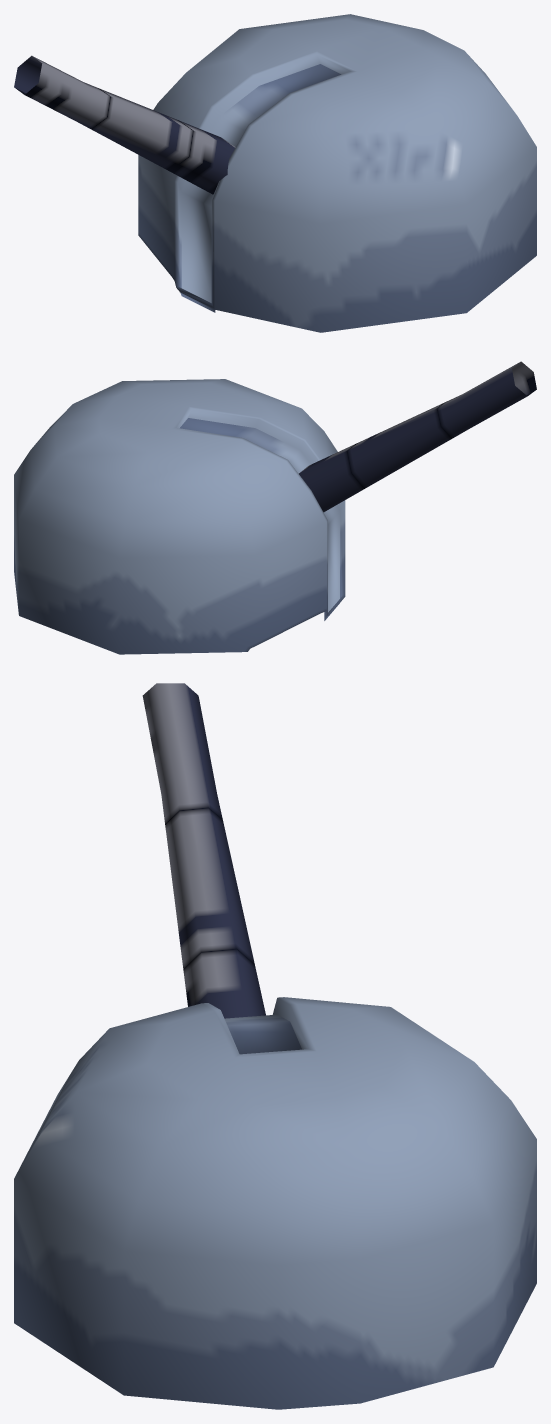
The model's file is MiniCanhao.fbx.
The picture shows the model from 3 angles, top to bottom: view 1: azimuth 30°, elevation 25°; view 2: azimuth 150°, elevation 25°; view 3: azimuth 270°, elevation 25°; orthographic projection. The views are drawn at different scales.
Visible parts, largest first — view 1: MiniCanhao; view 2: MiniCanhao; view 3: MiniCanhao.
Boxes of the visible parts, <box> form: MiniCanhao: <box>14,14,536,332</box>; MiniCanhao: <box>14,361,536,654</box>; MiniCanhao: <box>14,683,536,1409</box>.
Size of the model in its own units: 395 by 258 by 222.
